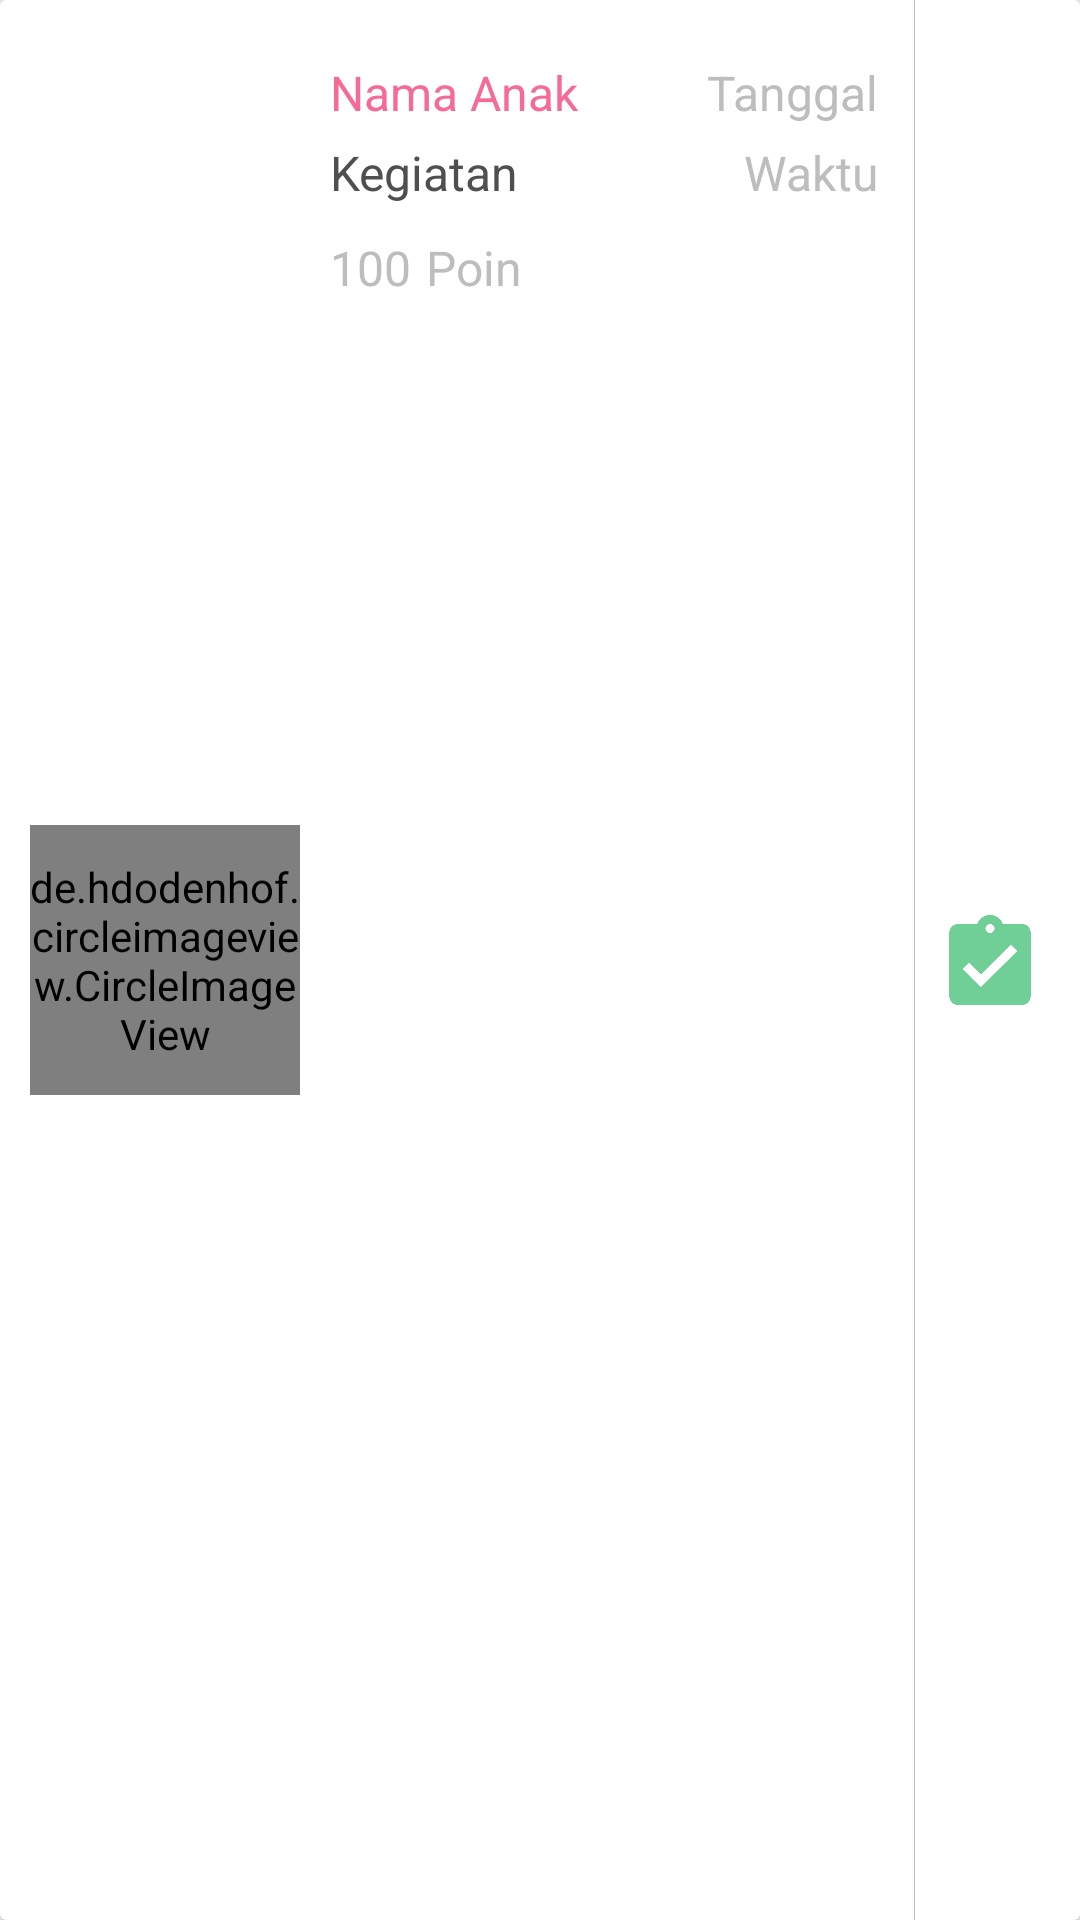

Screen size 1080*1920. Icon name, then its center in pixels as (x,y):
ceklist: (990,960)
